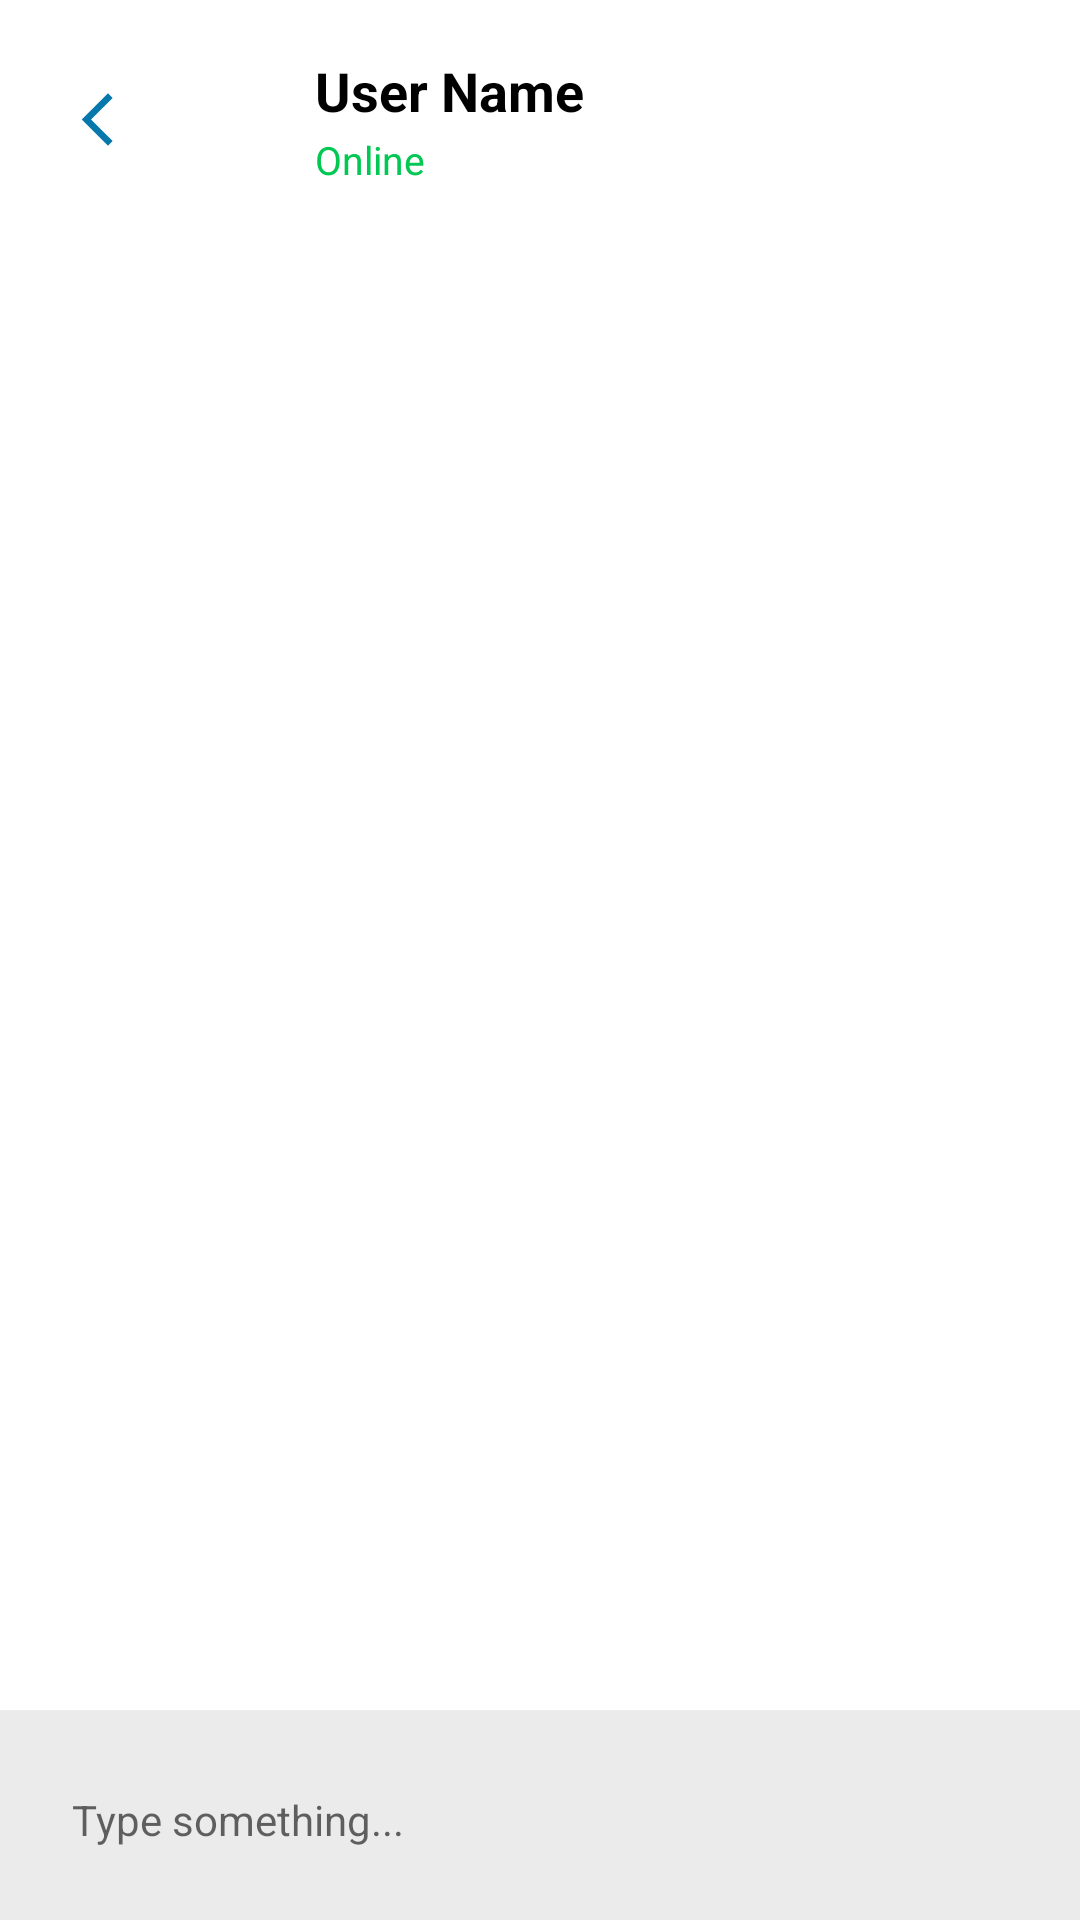

Named icons in this screenshot (1080 × 1920) and their bounding boxes, (x1, y1, x2, y2):
back arrow: (82, 93, 113, 146)
